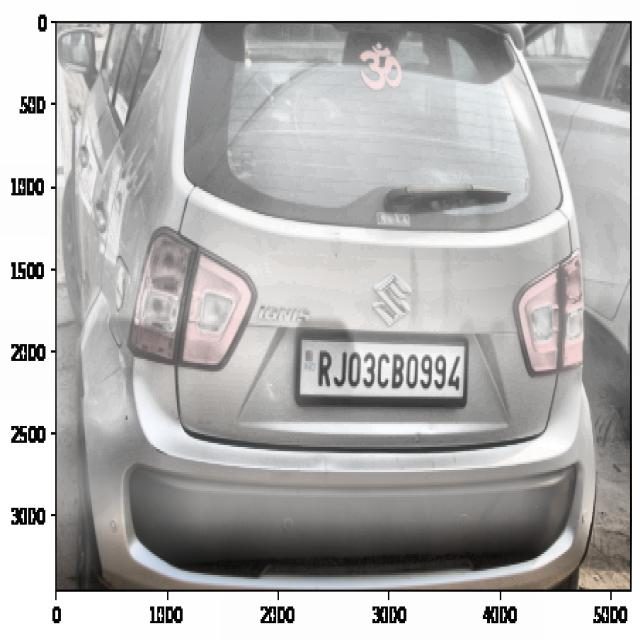license_plate: (312, 338, 466, 403)
